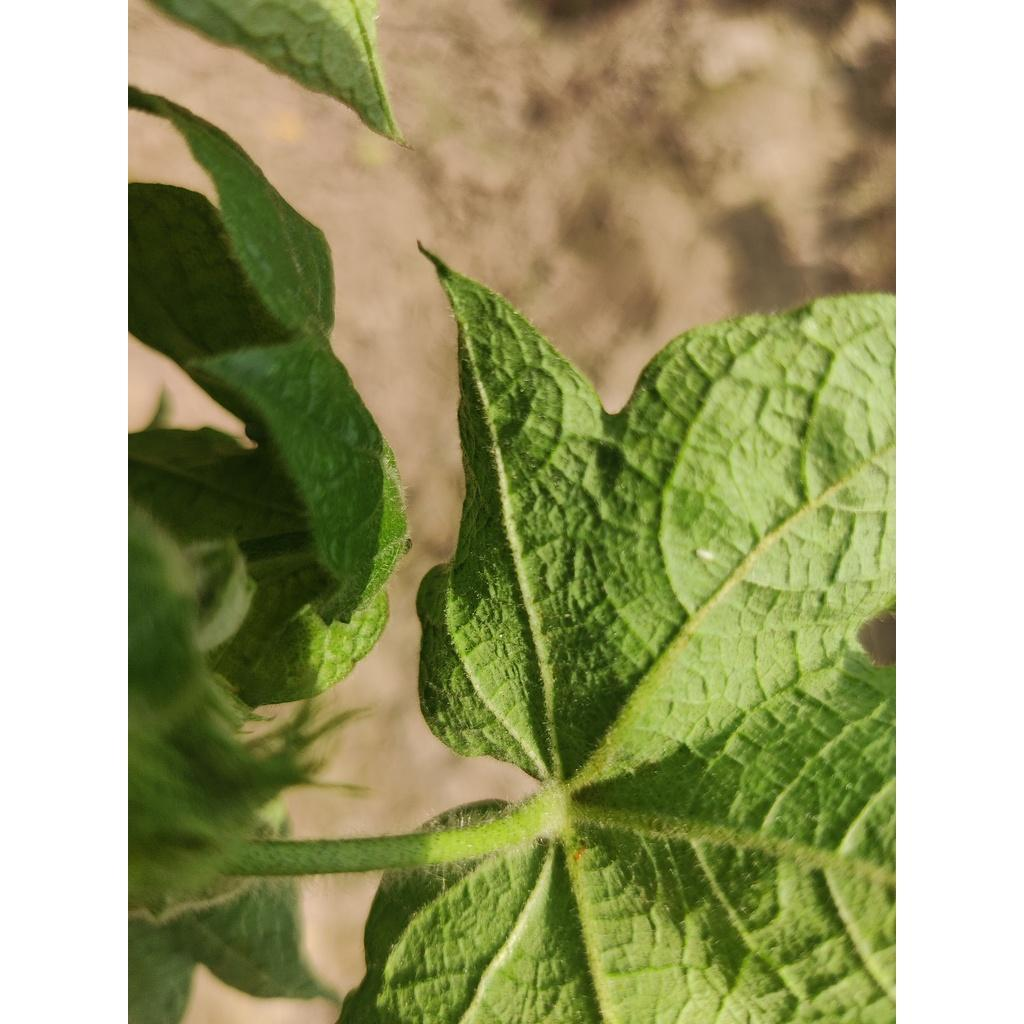adult: (696, 548, 715, 561)
